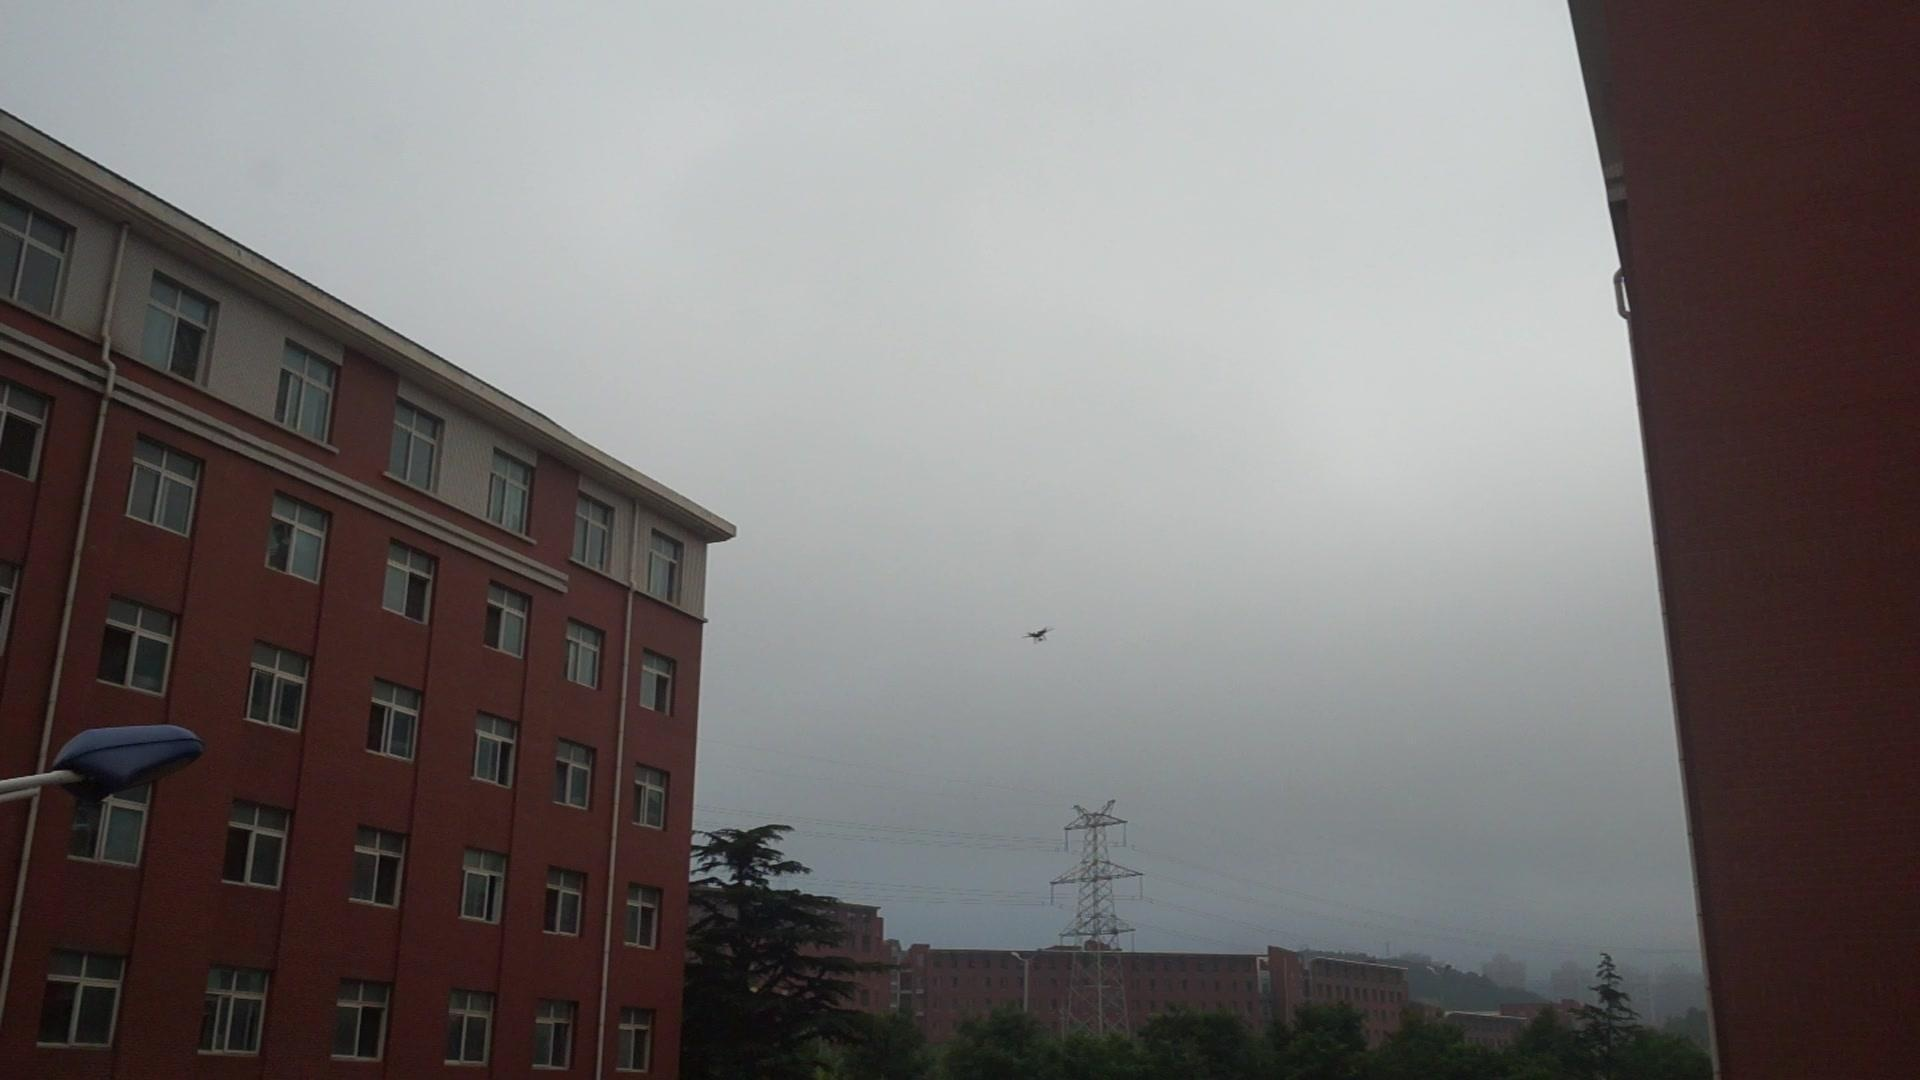UAV: (1022, 628, 1055, 645)
